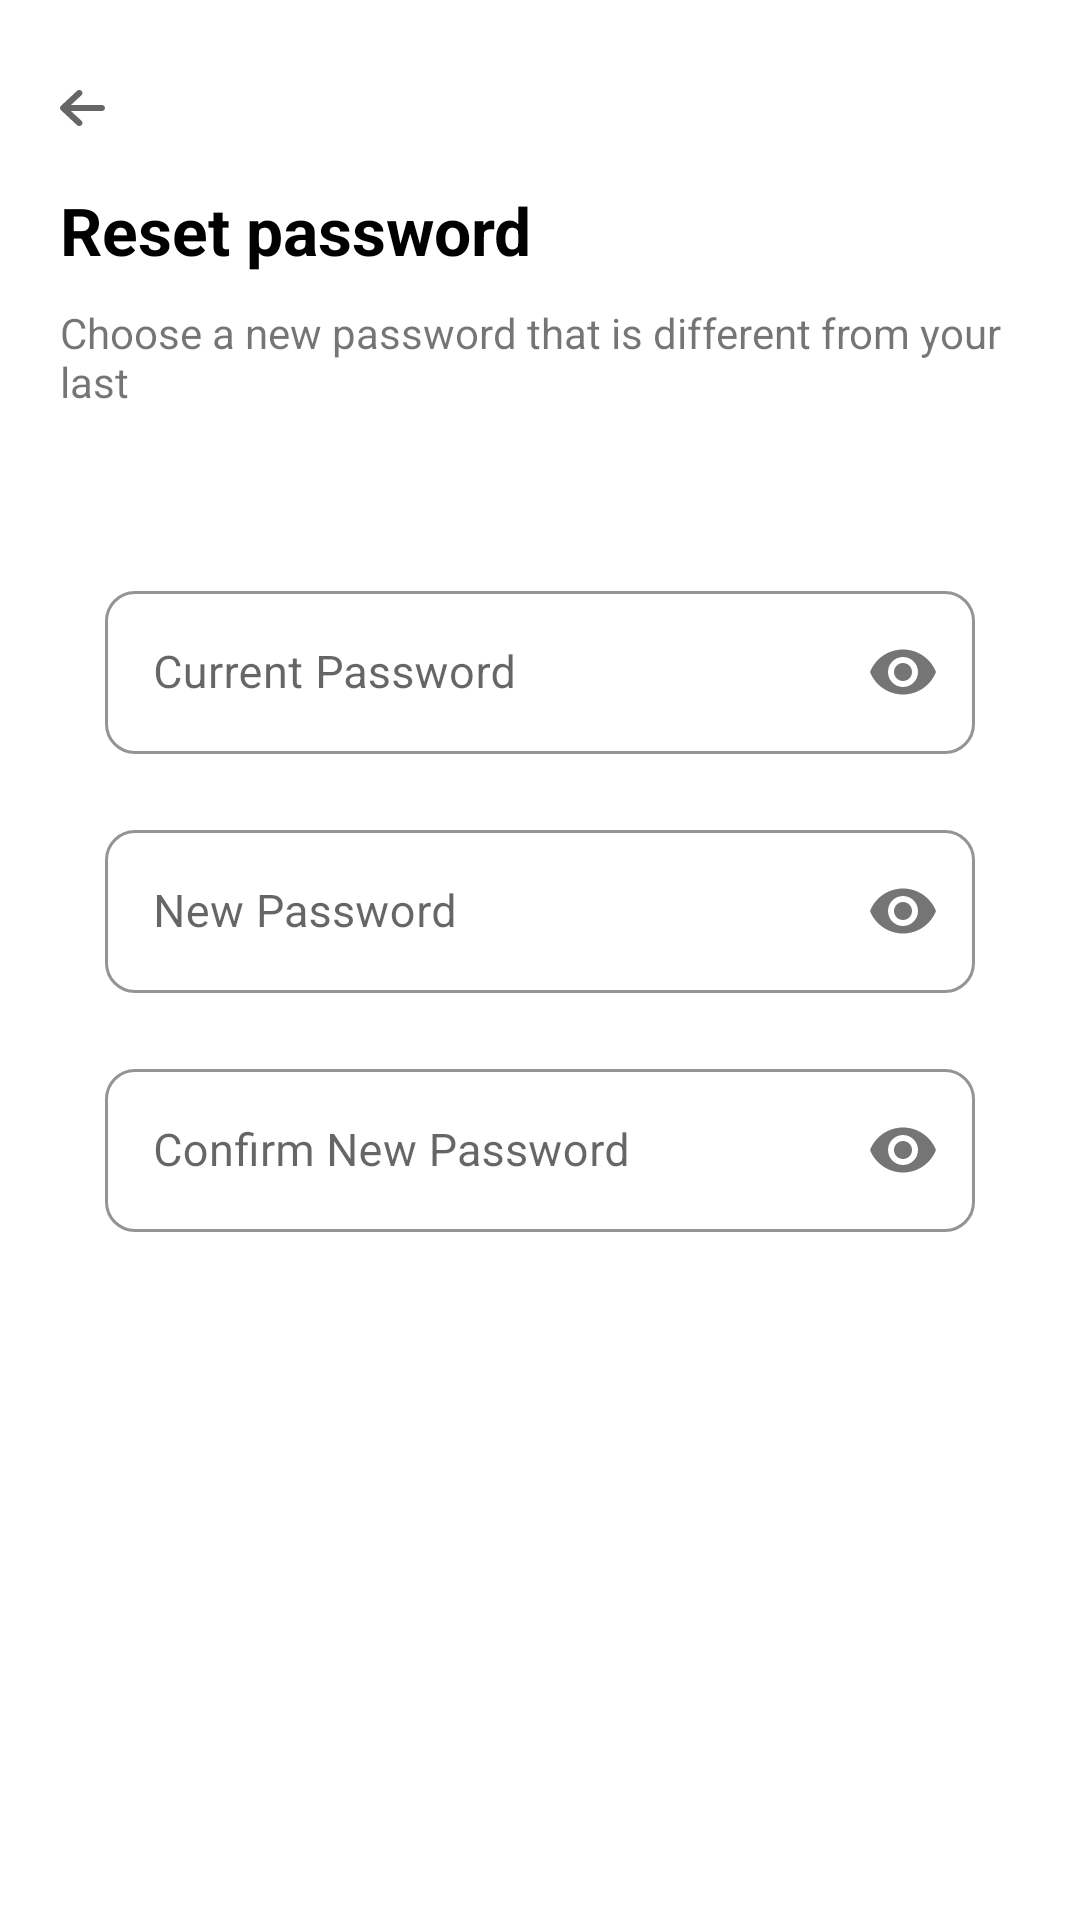

Named icons in this screenshot (1080x1920) and their bounding boxes, (x1, y1, x2, y2):
back: (60, 90, 105, 126)
